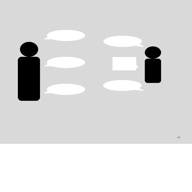left_speech: (41, 80, 87, 98), (42, 27, 87, 43), (43, 54, 88, 70)
right_oneway: (108, 53, 141, 74)
right_speech: (102, 31, 145, 50), (100, 77, 143, 93)
